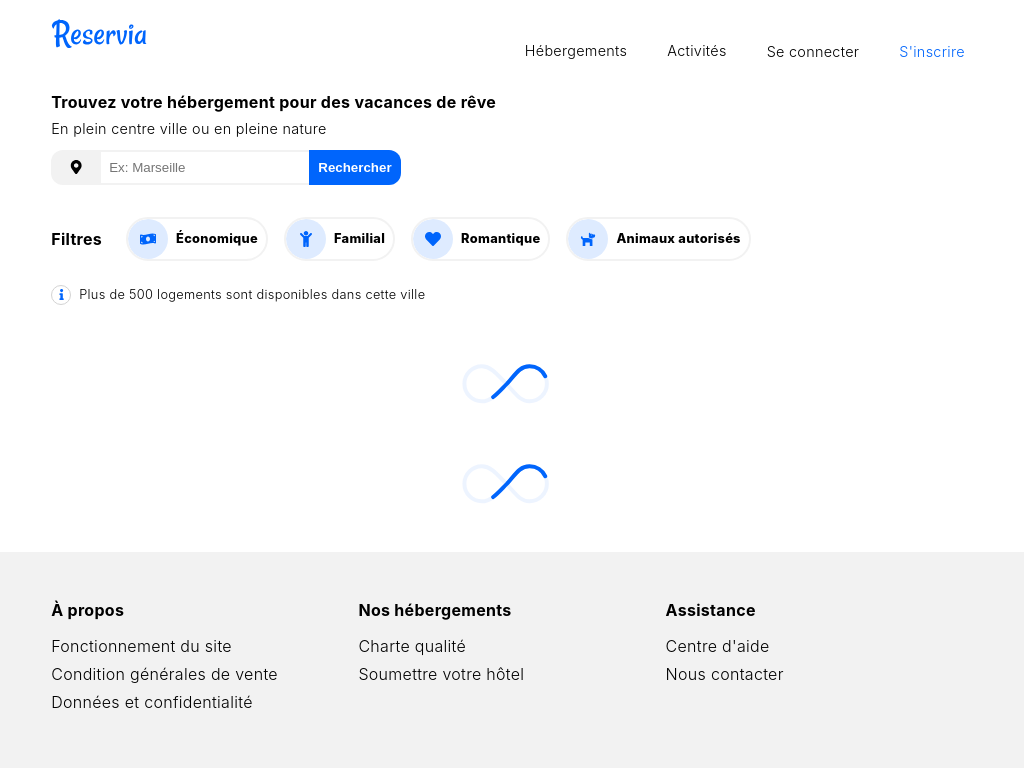
Test case: Affichage des modals d'inscription et de connexion › Affiche de la modal de connexion
Click the text with class "connect-link" at (814, 52), box [767, 43, 860, 60]
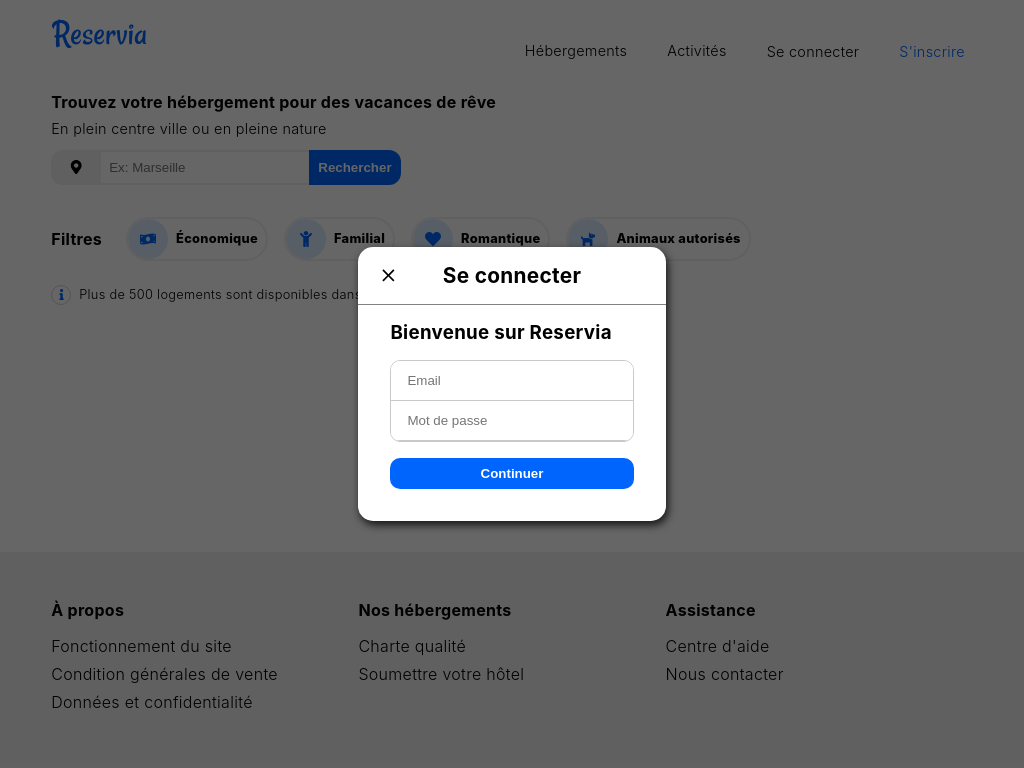
Expected: the heading with class "title-modal-login" reads "Se connecter", [443, 263, 581, 288]
Expected: the heading with class "title-modal-welcome" reads "Bienvenue sur Reservia", [390, 321, 633, 344]
